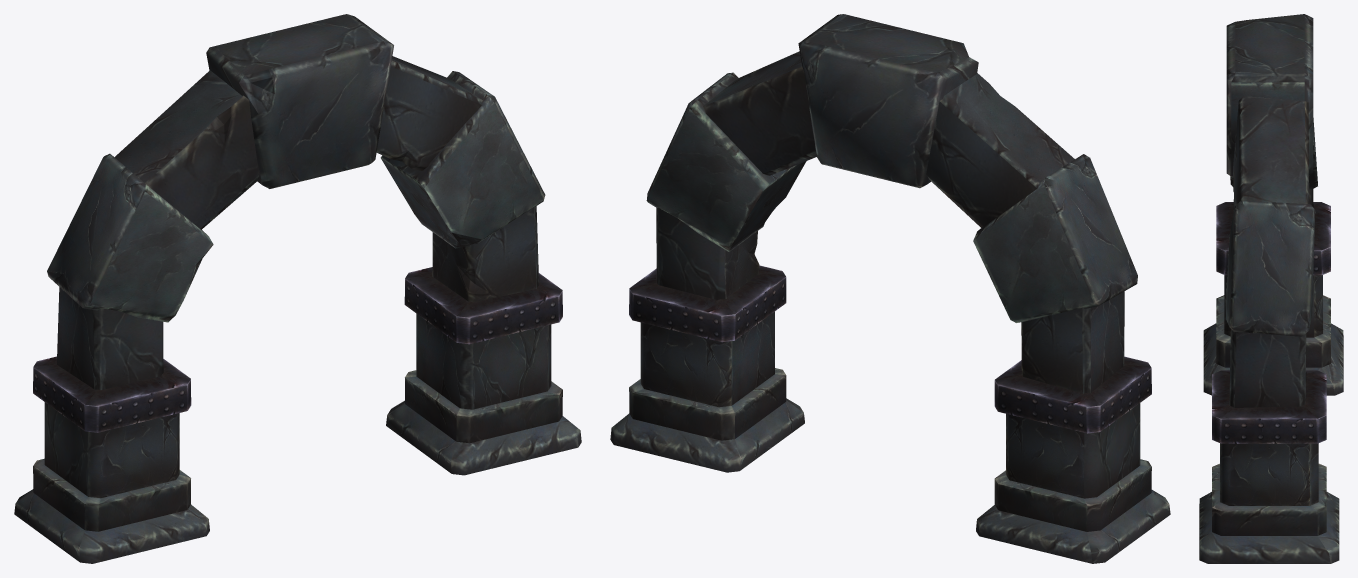
Rendered from B_men004.fbx.
3 renders of one model, left to right at view 1: azimuth 30°, elevation 25°; view 2: azimuth 150°, elevation 25°; view 3: azimuth 270°, elevation 25°, orthographic. The views are drawn at different scales.
Visible parts, largest first — view 1: B_men004; view 2: B_men004; view 3: B_men004.
Boxes of the visible parts, x1,y1,x2,y2 form: B_men004: (14, 14, 581, 563); B_men004: (610, 14, 1170, 563); B_men004: (1199, 14, 1343, 563).
Size of the model in its own units: 373 by 311 by 99.99.
